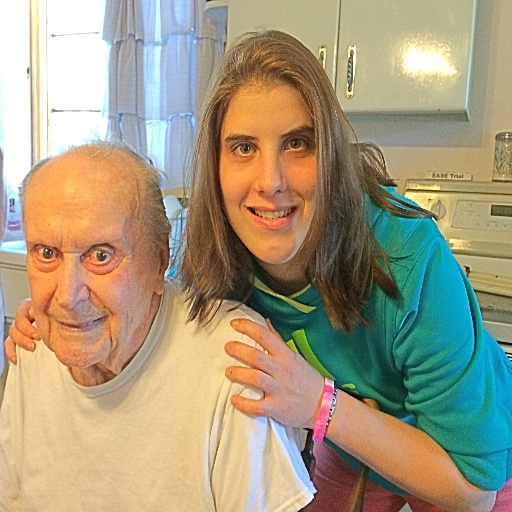hand: (212, 334, 321, 433), (3, 298, 41, 366)
